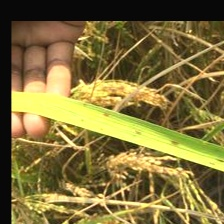Bacterial_Leaf_Blight: (208, 157, 224, 166), (128, 126, 144, 135), (170, 138, 180, 145), (101, 112, 112, 117)
